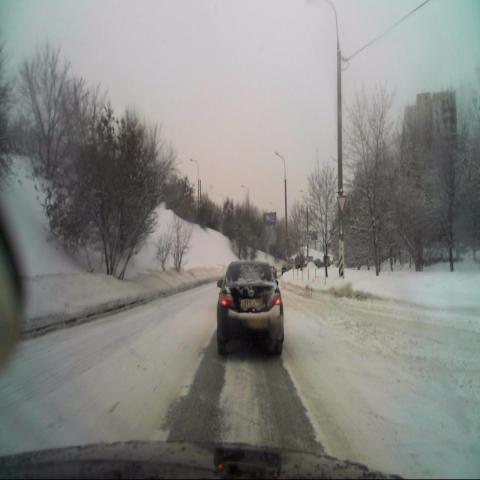2_4: (336, 192, 347, 214)
